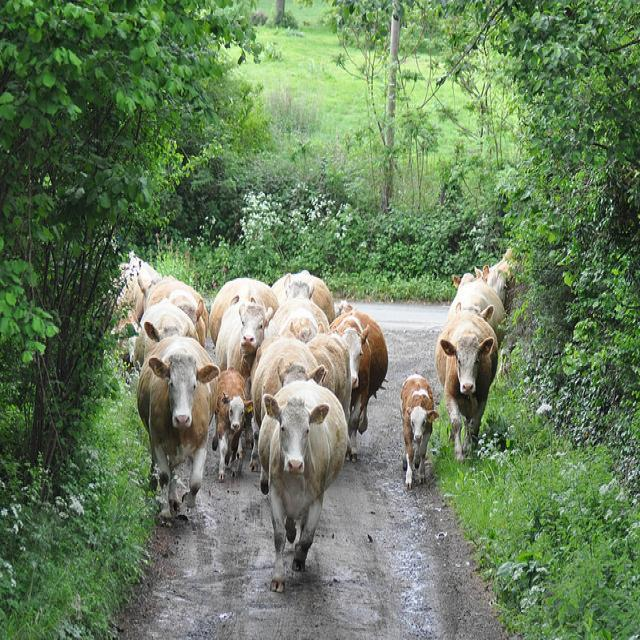cow: (112, 245, 516, 325), (258, 380, 347, 590), (134, 338, 219, 528), (433, 306, 497, 460), (329, 307, 387, 459), (251, 329, 326, 423), (213, 300, 272, 401), (207, 274, 279, 345), (145, 273, 207, 347), (131, 297, 195, 367), (212, 367, 252, 478), (399, 373, 437, 487), (308, 321, 351, 417), (260, 297, 327, 342)
